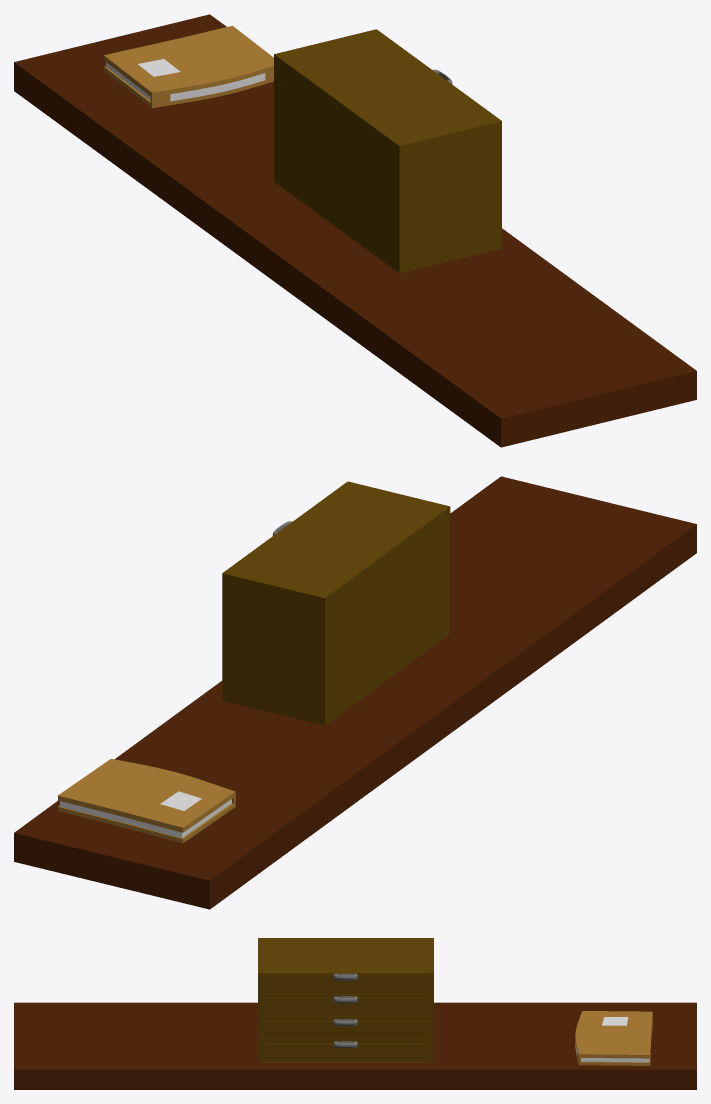
The model's file is corner_Scene.fbx.
3 views of the same model, one above another, from view 1: azimuth 30°, elevation 25°; view 2: azimuth 150°, elevation 25°; view 3: azimuth 270°, elevation 25° (orthographic). The views are drawn at different scales.
Visible parts, largest first — view 1: Cube.028, Cube.023, Cube.032; view 2: Cube.028, Cube.023, Cube.032; view 3: Cube.028, Cube.023, Cube.032.
Part boxes in pixels (<box>): Cube.028: <box>14,14,696,447</box>; Cube.023: <box>274,29,501,273</box>; Cube.032: <box>104,26,273,108</box>; Cube.028: <box>14,476,696,909</box>; Cube.023: <box>222,481,450,725</box>; Cube.032: <box>58,759,235,843</box>; Cube.028: <box>14,1002,696,1089</box>; Cube.023: <box>258,938,433,1062</box>; Cube.032: <box>575,1011,652,1065</box>.
Size of the model in its own units: 44.35 by 33.83 by 191.
